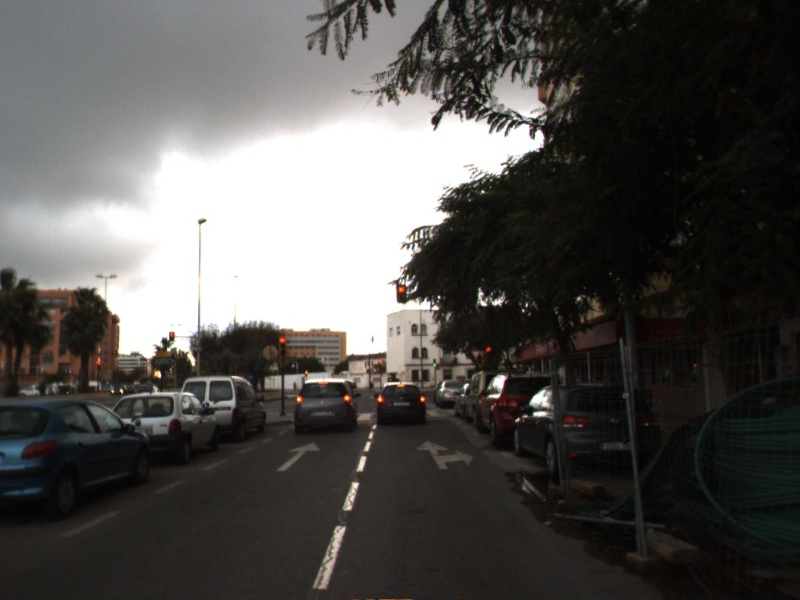STRAIGHT: (275, 440, 322, 472)
STRAIGHT_RIGHT: (415, 438, 476, 471)
